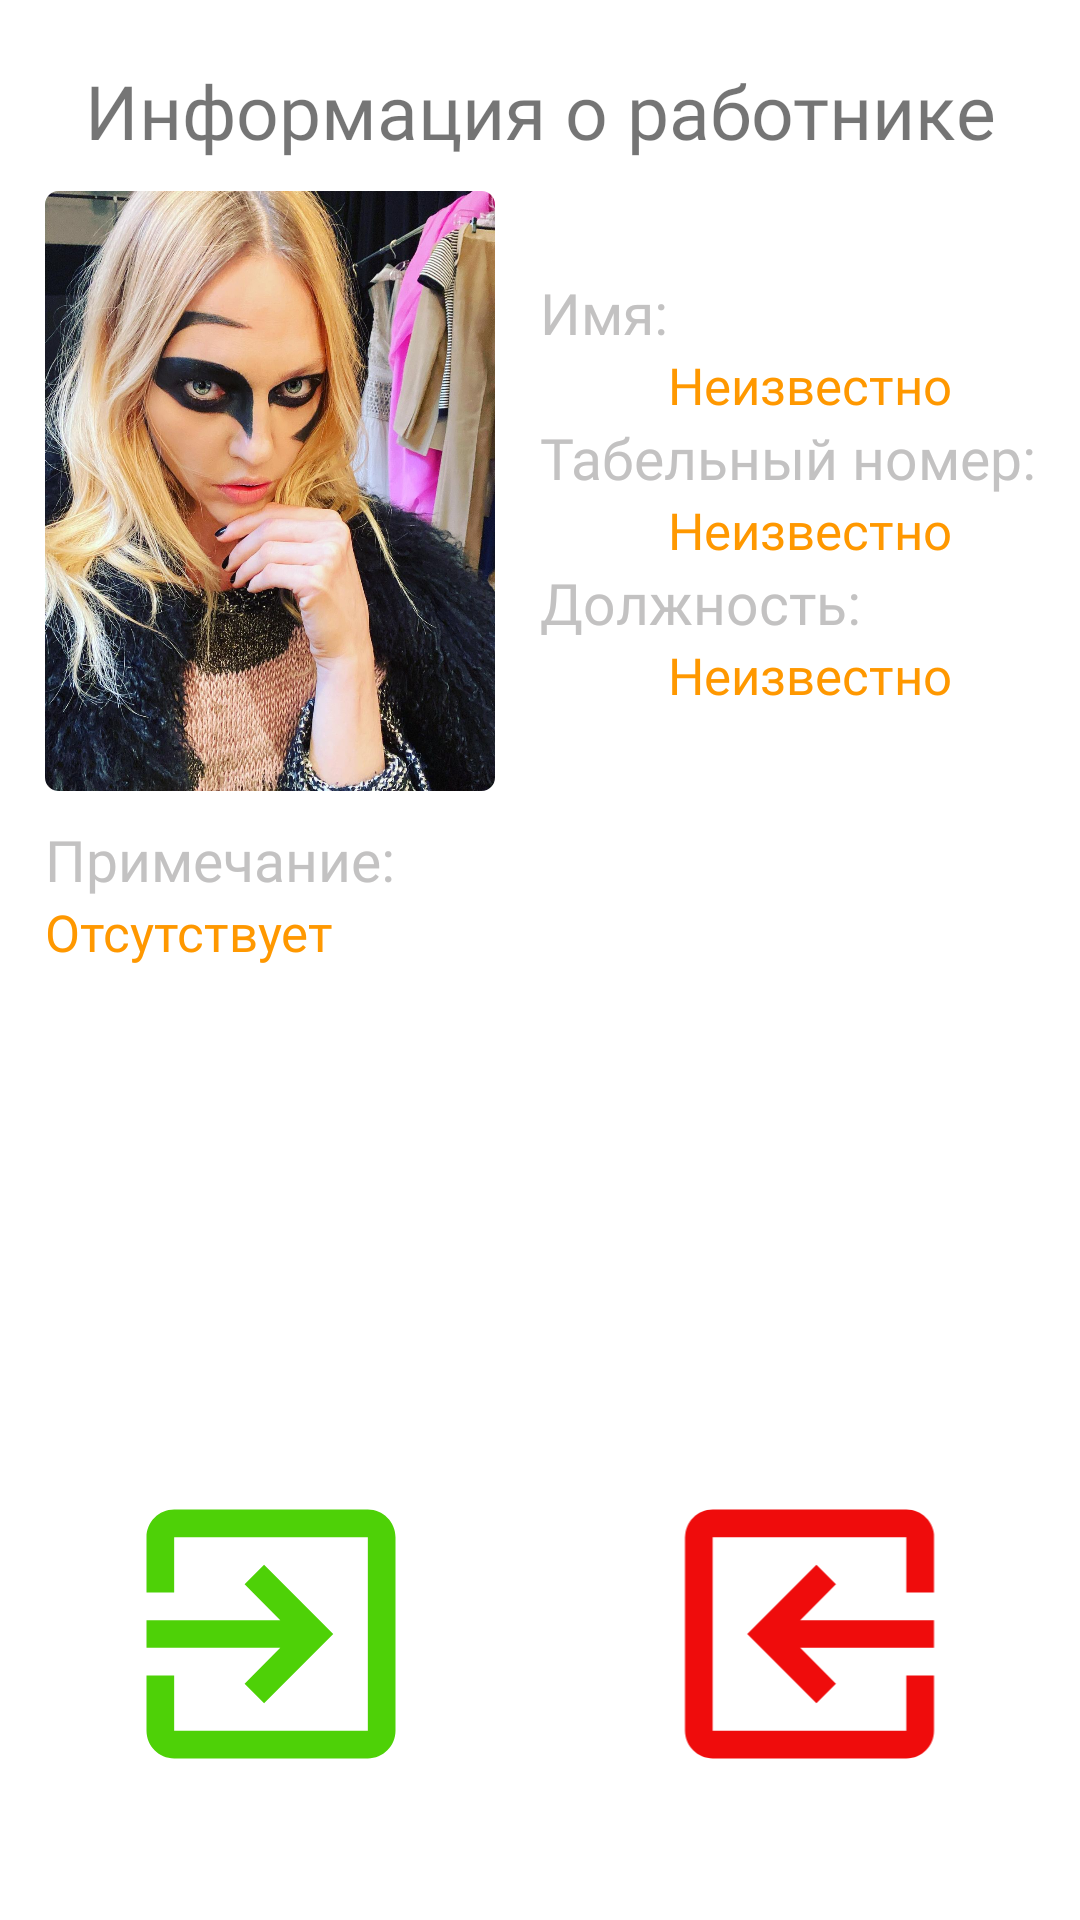

Icon bounding boxes for this 1080w x 1920h phone screenshot, format (x1, y1, x2, y2):
enter to app: (146, 1509, 396, 1759)
